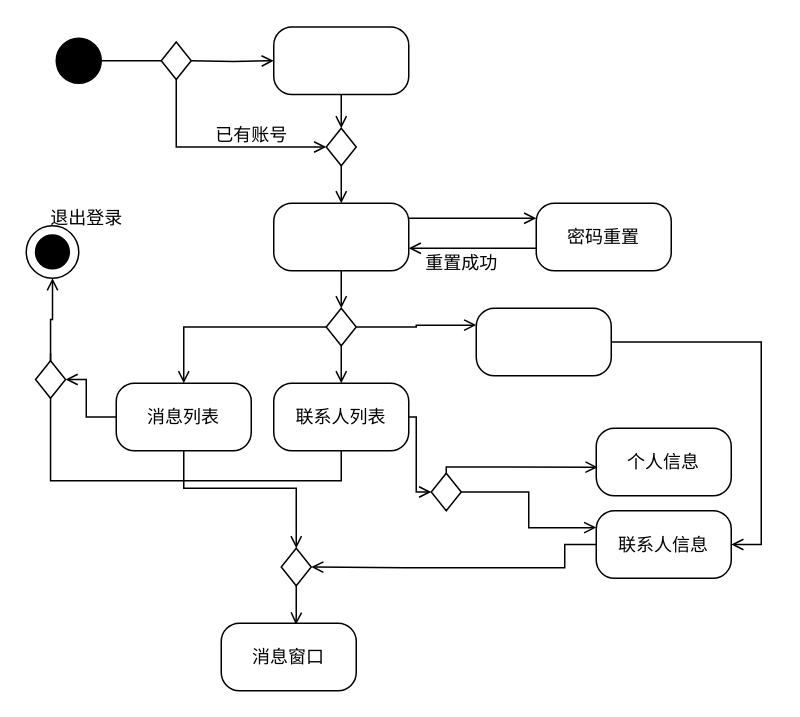
This 800x717 diagram has some shape labels left out. Here are the shapes that lost their labels. From the top down, the centre of each, then its label:
At [340,60]: "注册账号".
At [340,236]: "登录账号".
At [543,341]: "搜索".
